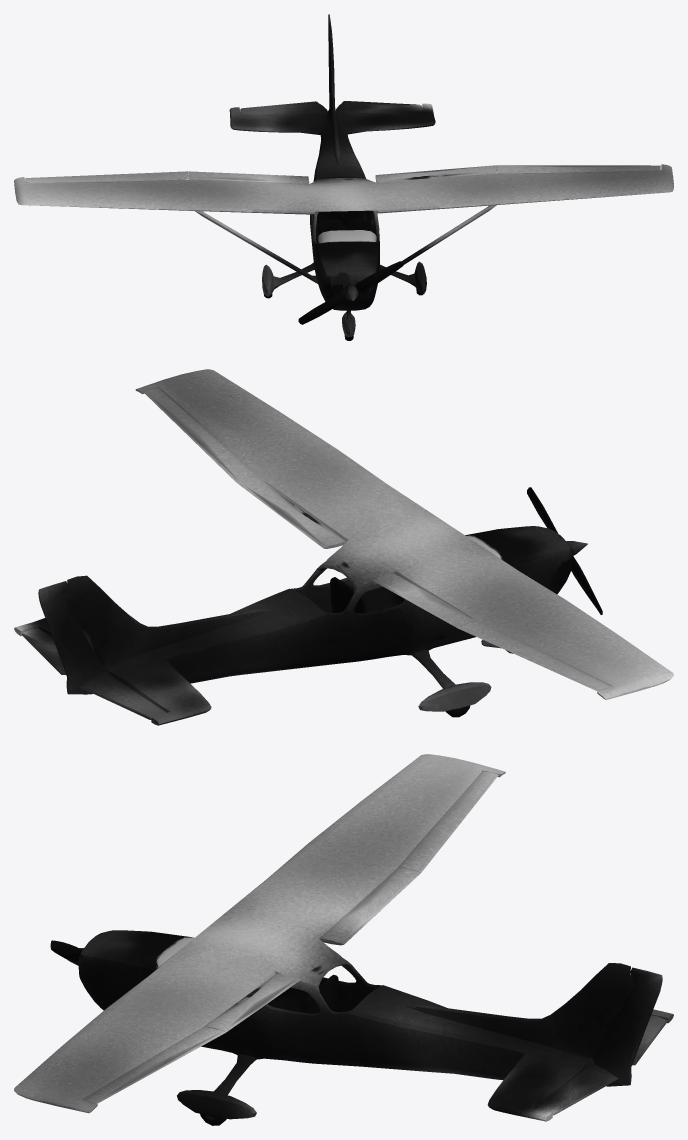
The model's file is cessna172.lod0.glb.
3 renders of one model, top to bottom at view 1: azimuth 30°, elevation 25°; view 2: azimuth 150°, elevation 25°; view 3: azimuth 270°, elevation 25°, orthographic. The views are drawn at different scales.
Parts seen in each view (by area): view 1: Object_10, Object_7; view 2: Object_10, Object_7; view 3: Object_10, Object_7.
Boxes of the visible parts, x1,y1,x2,y2 form: Object_10: (14, 23, 673, 310); Object_7: (25, 14, 660, 340); Object_10: (14, 369, 673, 725); Object_7: (21, 388, 611, 719); Object_10: (14, 754, 673, 1121); Object_7: (50, 771, 667, 1125).
Size of the model in its own units: 11 by 2.93 by 8.63.
Materials: 2 (2 with a texture image).
